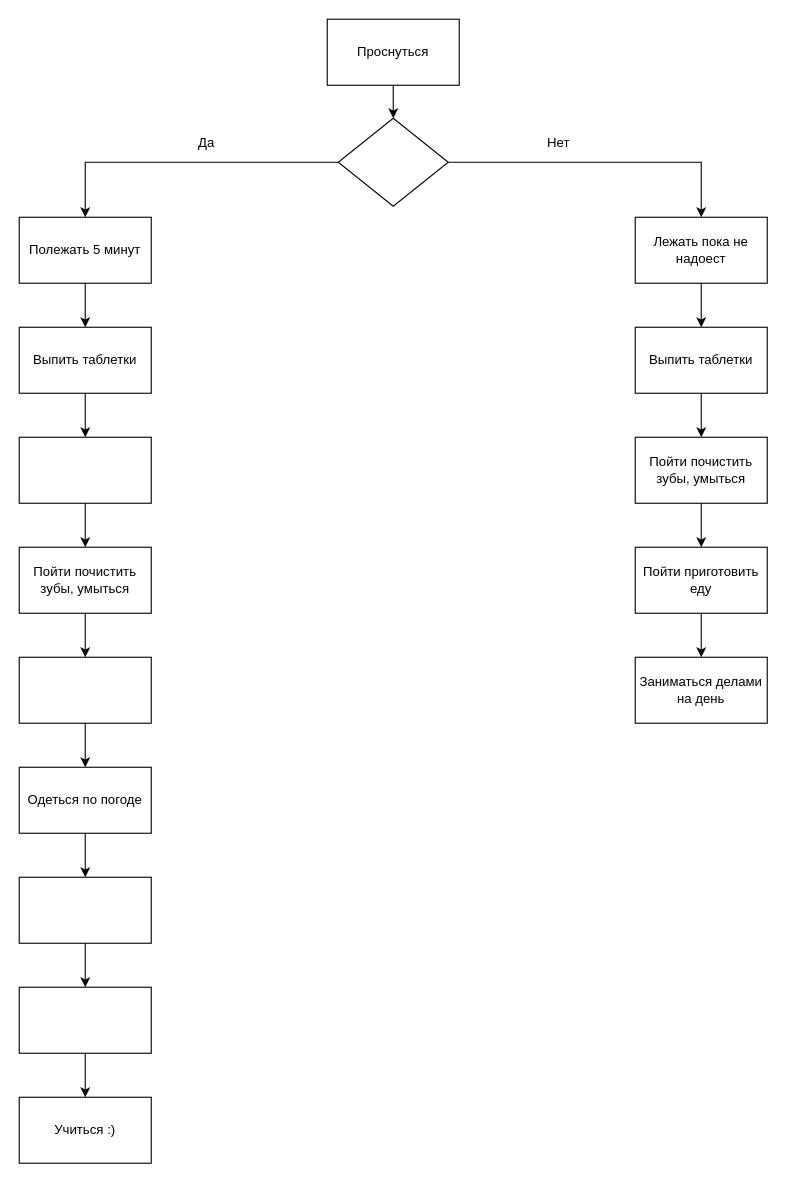
Image size: 787x1183. Some labels were removed from this diagram. The centre of each missing label's shape, as x and y in pixels:
"Будний день" belongs at [392,161].
"Дождаться в телефоне приезда автобуса" belongs at [84,909].
"Пойти на кухню, приготовить еду" belongs at [84,689].
"Полежать еще 5 минут" belongs at [84,469].
"Сесть в автобус и ждать приезда в пед" belongs at [84,1019].
